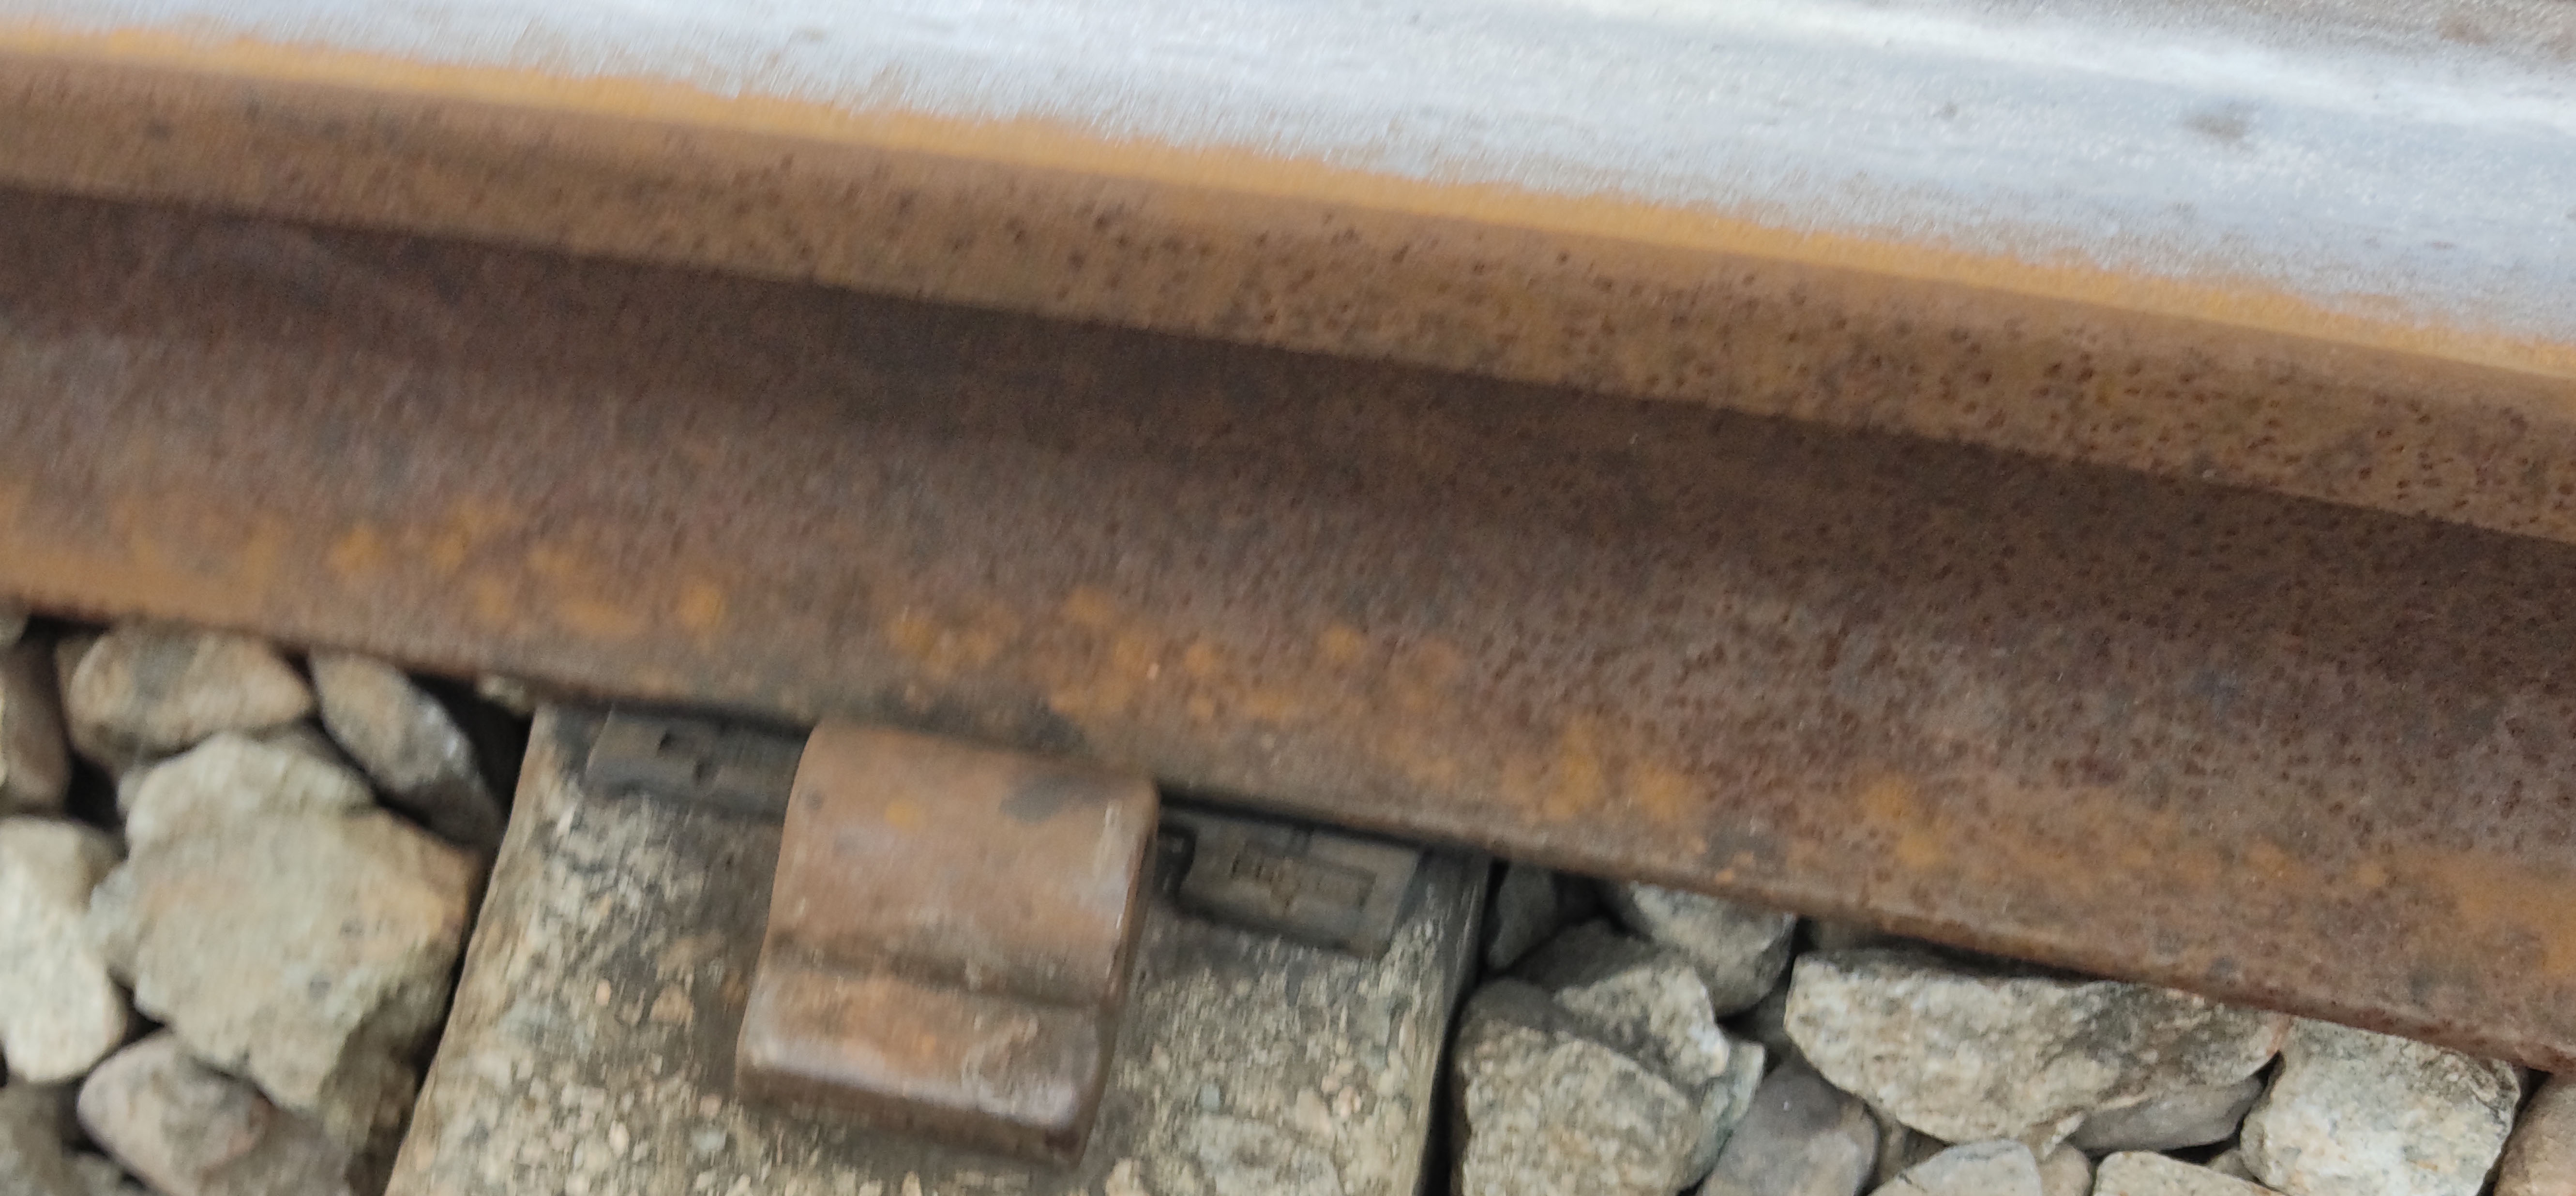error1: (698, 687, 1239, 1166)
